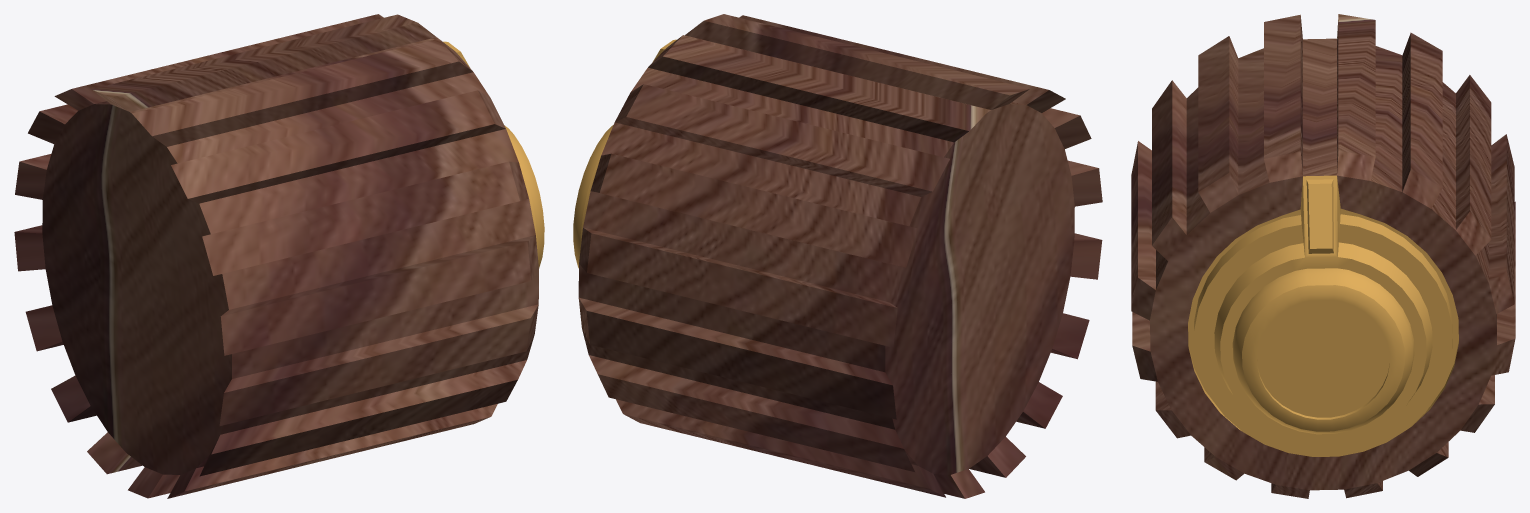
The model's file is DialThing.fbx.
The picture shows the model from 3 angles, left to right: view 1: azimuth 30°, elevation 25°; view 2: azimuth 150°, elevation 25°; view 3: azimuth 270°, elevation 25°; orthographic projection. The views are drawn at different scales.
Parts seen in each view (by area): view 1: Circle; view 2: Circle; view 3: Circle.
Part boxes in pixels (x1,y1,x2,y2): Circle: [14, 14, 544, 498]; Circle: [573, 14, 1102, 498]; Circle: [1131, 14, 1515, 498].
Size of the model in its own units: 34.94 by 33.07 by 33.07.
Materials: 3 (3 with a texture image).
